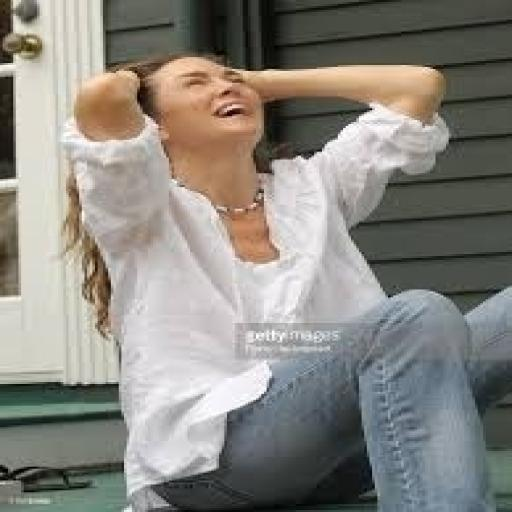laughing: (53, 41, 509, 510)
